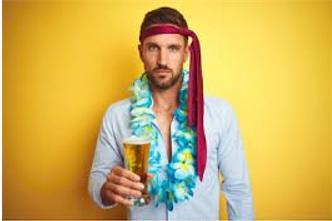Drunk: (144, 32, 184, 84)
